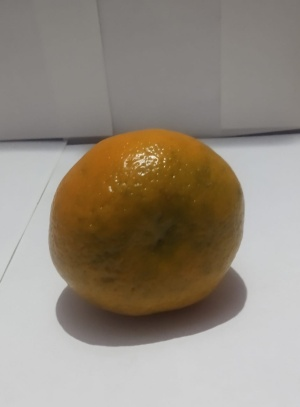BAD: (49, 128, 252, 321)
